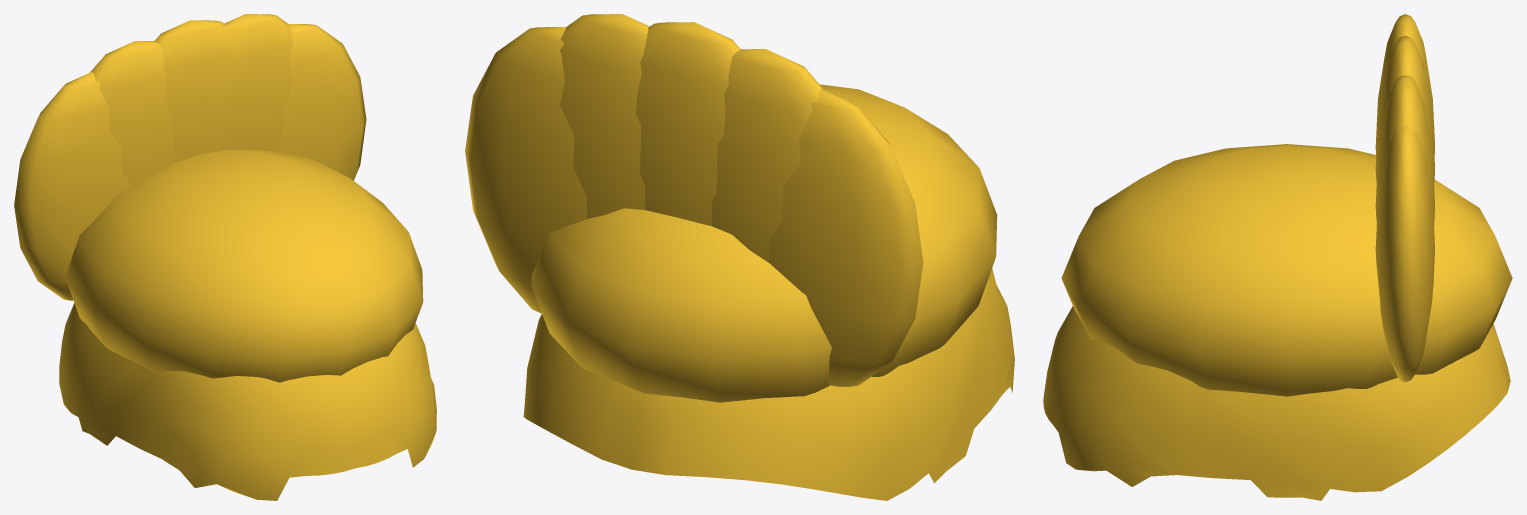
Rendered from hair-gele.glb.
The picture shows the model from 3 angles, left to right: view 1: azimuth 30°, elevation 25°; view 2: azimuth 150°, elevation 25°; view 3: azimuth 270°, elevation 25°; orthographic projection. The views are drawn at different scales.
Parts seen in each view (by area): view 1: gele; view 2: gele; view 3: gele.
Part boxes in pixels (<box>): gele: <box>14,14,436,500</box>; gele: <box>465,14,1014,500</box>; gele: <box>1043,14,1512,500</box>.
Bounding box in the file's own units: 0.2399 × 0.2283 × 0.2526.
